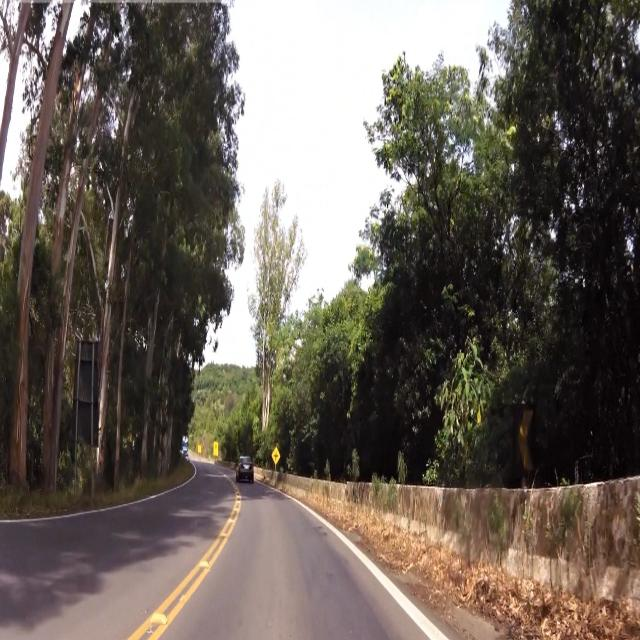Del: (509, 403, 542, 485)
